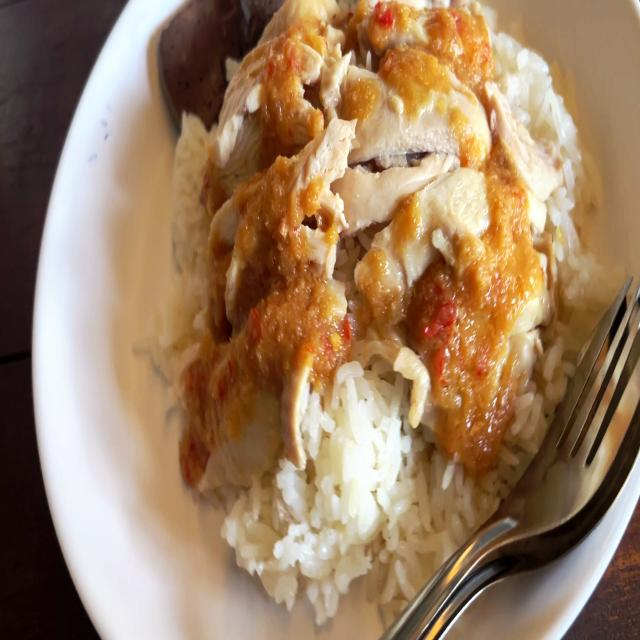boiled_chicken: (221, 7, 537, 469)
boiled_chicken_blood_jelly: (150, 0, 238, 114)
chicken_rice: (118, 0, 604, 606)
